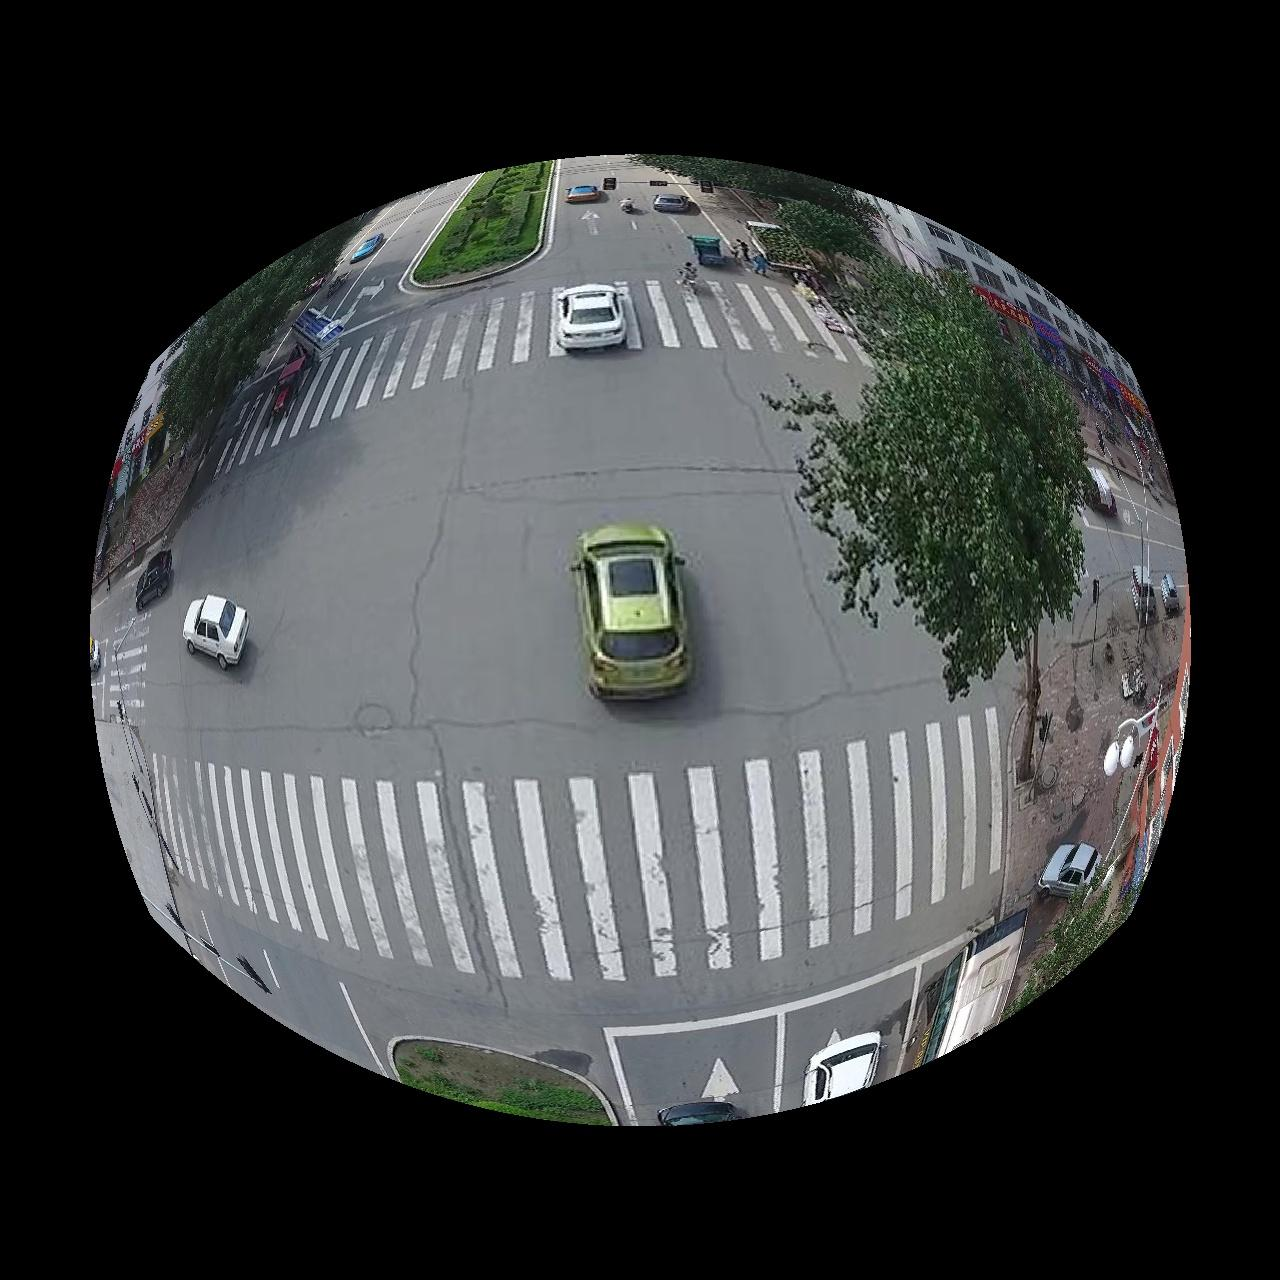cars: (572, 524, 692, 699), (804, 1034, 883, 1108), (552, 284, 626, 352), (181, 595, 248, 668)
trees: (771, 260, 1094, 699)
